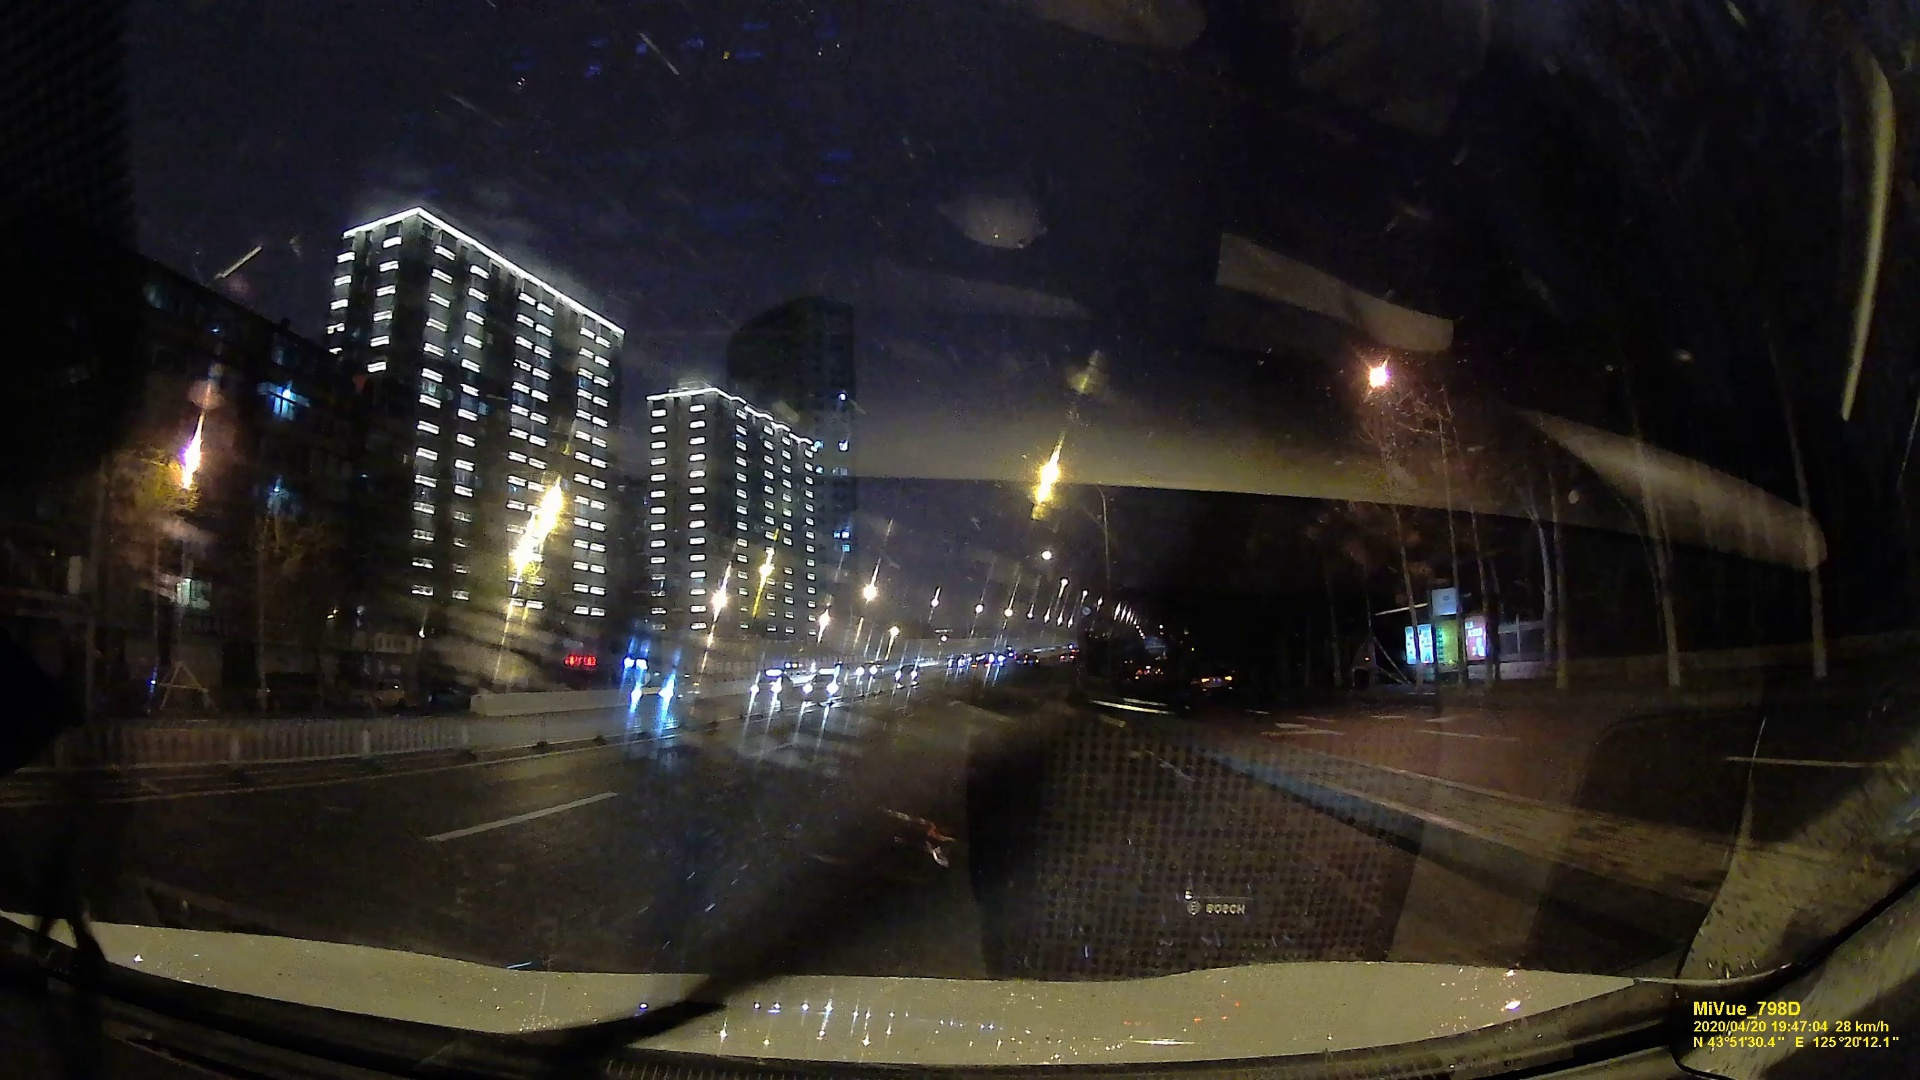vehicle: (632, 673, 700, 709), (748, 673, 794, 700), (1195, 666, 1236, 694), (803, 673, 844, 698)
